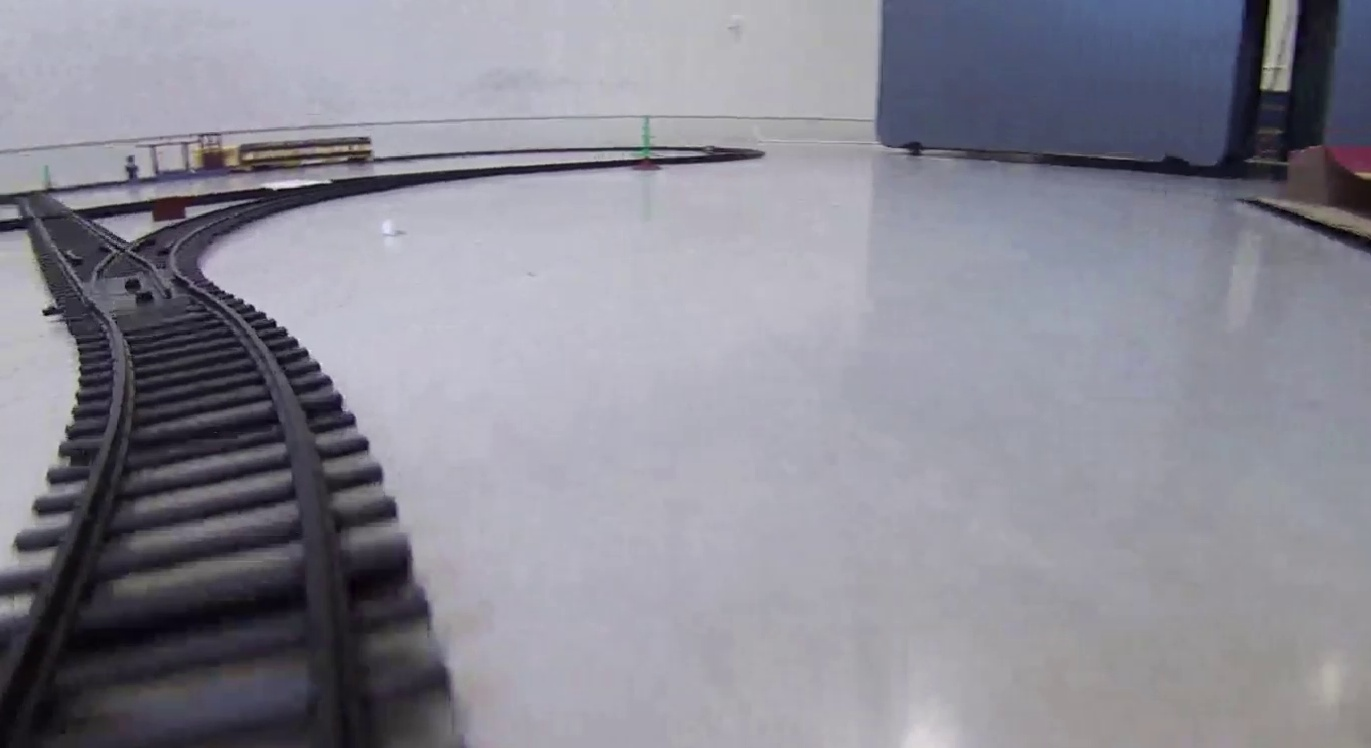box: (151, 199, 187, 219)
